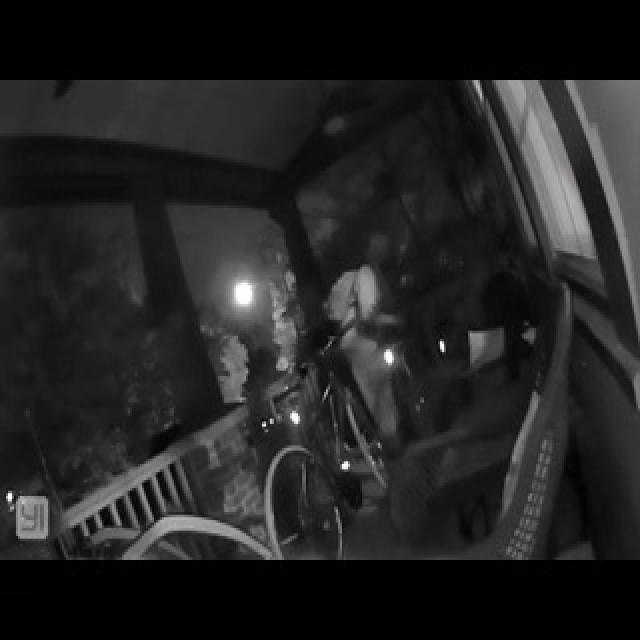thief: (332, 263, 410, 388)
